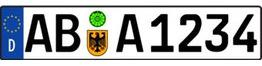1: (147, 13, 175, 53)
2: (178, 14, 203, 53)
3: (204, 12, 230, 53)
4: (232, 12, 259, 54)
A: (115, 13, 145, 54), (24, 12, 53, 54)
B: (54, 12, 82, 54)
